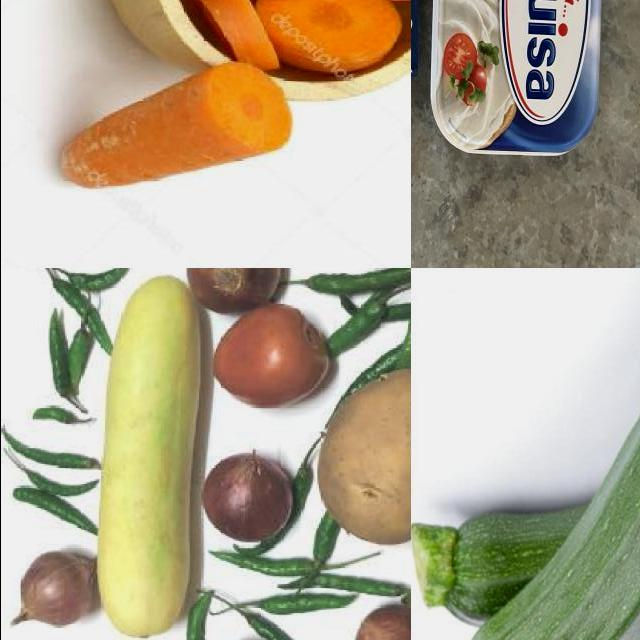carrot: (56, 65, 296, 193)
onion: (201, 445, 292, 551), (4, 548, 102, 637), (191, 269, 289, 316), (355, 603, 411, 640)
zucchini: (453, 269, 640, 640)
